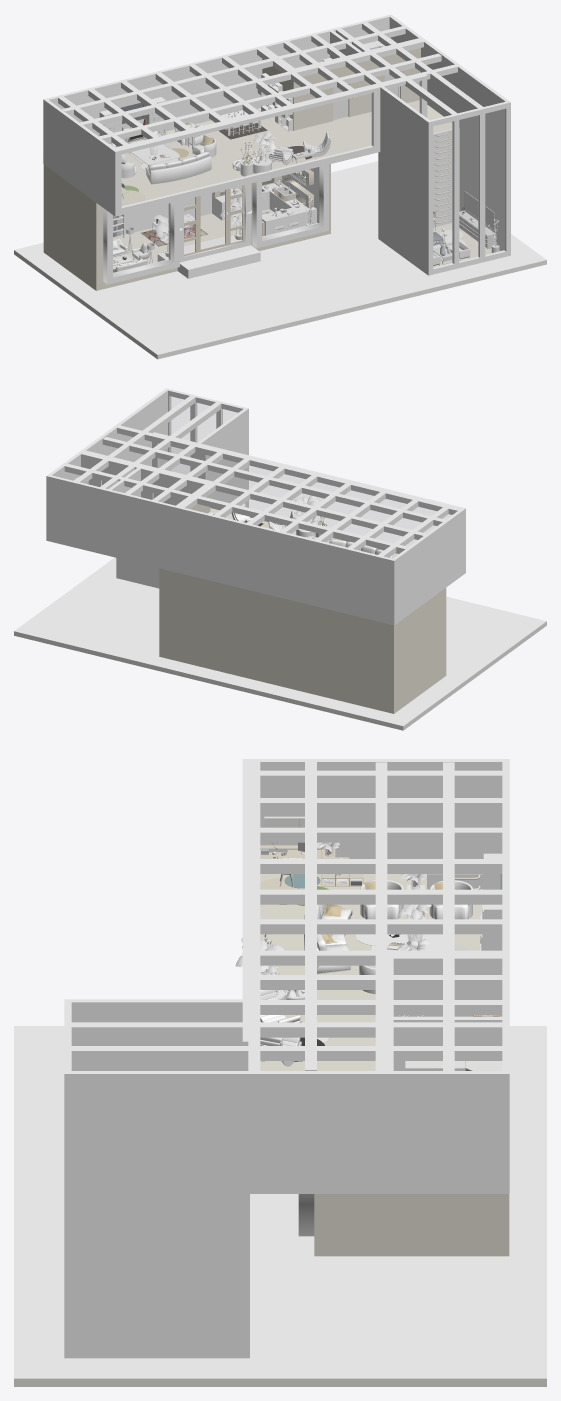
The picture shows the model from 3 angles, top to bottom: view 1: azimuth 30°, elevation 25°; view 2: azimuth 150°, elevation 25°; view 3: azimuth 270°, elevation 25°; orthographic projection. The views are drawn at different scales.
Parts seen in each view (by area): view 1: Object_28, Object_63, Object_73, Object_26, Object_20, Object_19, Object_59, Object_36, Object_21, Object_74, Object_22, Object_25 (+7 smaller); view 2: Object_28, Object_20, Object_73, Object_26, Object_63, Object_36, Object_21, Object_74; view 3: Object_28, Object_73, Object_26, Object_20, Object_36, Object_19, Object_21, Object_74, Object_62, Object_25, Object_60, Object_90 (+1 smaller).
Boxes of the visible parts, x1,y1,x2,y2 form: Object_28: (43, 17, 510, 275); Object_63: (113, 81, 504, 272); Object_73: (14, 161, 546, 354); Object_26: (58, 21, 483, 284); Object_20: (43, 48, 420, 290); Object_19: (113, 100, 491, 267); Object_59: (113, 116, 450, 266); Object_36: (44, 14, 510, 151); Object_21: (14, 250, 546, 359); Object_74: (121, 122, 330, 184); Object_22: (113, 183, 316, 265); Object_25: (99, 73, 330, 184); Object_28: (46, 390, 465, 625); Object_20: (159, 495, 446, 713); Object_73: (14, 557, 546, 726); Object_26: (64, 395, 460, 557); Object_63: (159, 397, 451, 546); Object_36: (47, 388, 465, 560); Object_21: (14, 621, 546, 730); Object_74: (234, 503, 392, 558); Object_28: (64, 762, 509, 1358); Object_73: (14, 1026, 546, 1378); Object_26: (68, 760, 508, 1236); Object_20: (314, 1194, 509, 1256); Object_36: (64, 759, 509, 1073); Object_19: (260, 874, 482, 1070); Object_21: (14, 1378, 546, 1386); Object_74: (260, 879, 472, 1045); Object_62: (264, 816, 502, 1070); Object_25: (260, 853, 502, 1066); Object_60: (260, 845, 363, 994); Object_90: (235, 904, 431, 974).
Bounding box in the file's own units: 22.81 × 8.83 × 14.57.
Materials: 100 (11 with a texture image).
